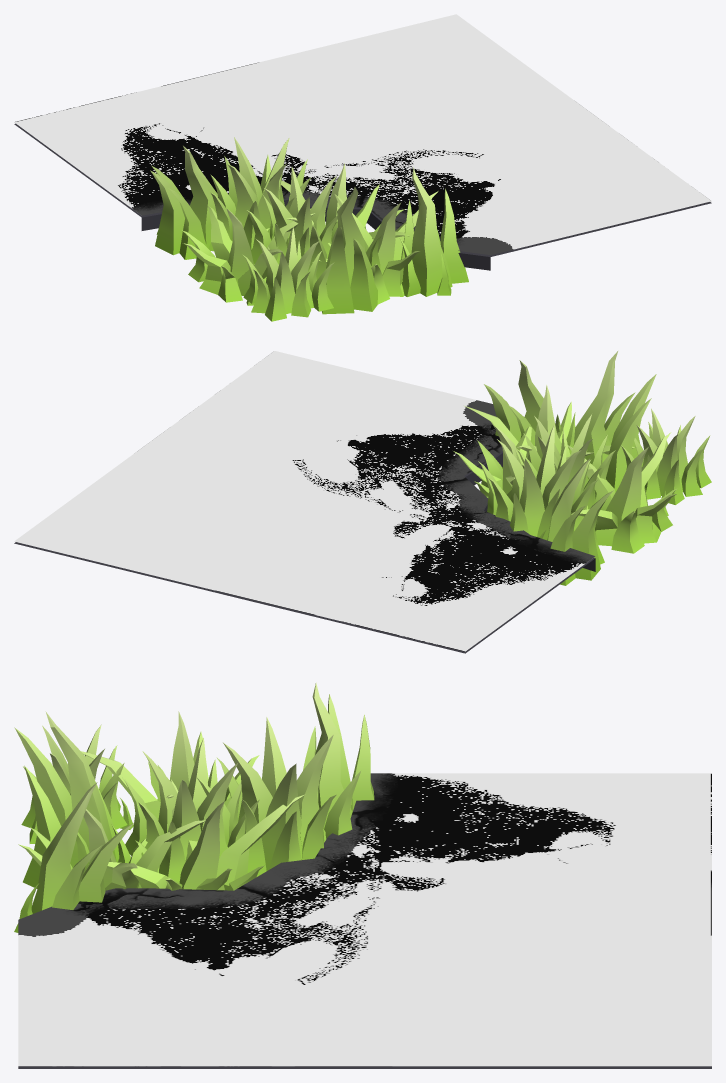
Rendered from Sol Alt Yesil.fbx.
3 views of the same model, one above another, from view 1: azimuth 30°, elevation 25°; view 2: azimuth 150°, elevation 25°; view 3: azimuth 270°, elevation 25° (orthographic). The views are drawn at different scales.
Visible parts, largest first — view 1: solaltyesil; view 2: solaltyesil; view 3: solaltyesil.
Boxes of the visible parts, x1,y1,x2,y2 form: solaltyesil: (14, 14, 711, 321); solaltyesil: (14, 351, 711, 653); solaltyesil: (14, 682, 711, 1068).
Size of the model in its own units: 209 by 52.6 by 201.
